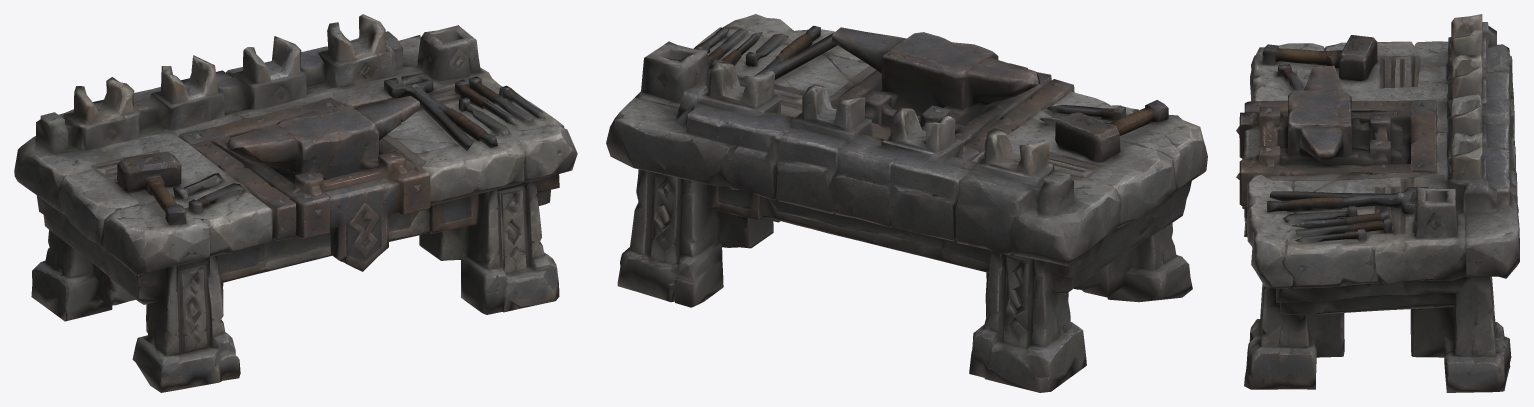
Rendered from hub_station.glb.
The picture shows the model from 3 angles, left to right: view 1: azimuth 30°, elevation 25°; view 2: azimuth 150°, elevation 25°; view 3: azimuth 270°, elevation 25°; orthographic projection. The views are drawn at different scales.
Parts seen in each view (by area): view 1: tripo_node_ee67e43a-a2ff-4a6f-be48-96653dfa5058; view 2: tripo_node_ee67e43a-a2ff-4a6f-be48-96653dfa5058; view 3: tripo_node_ee67e43a-a2ff-4a6f-be48-96653dfa5058.
Boxes of the visible parts, left/top/right/bottom form: tripo_node_ee67e43a-a2ff-4a6f-be48-96653dfa5058: left=14, top=14, right=577, bottom=392; tripo_node_ee67e43a-a2ff-4a6f-be48-96653dfa5058: left=606, top=14, right=1207, bottom=392; tripo_node_ee67e43a-a2ff-4a6f-be48-96653dfa5058: left=1236, top=14, right=1519, bottom=392.
Bounding box in the file's own units: 1 × 0.4586 × 0.5711.
Materials: 1 (1 with a texture image).
